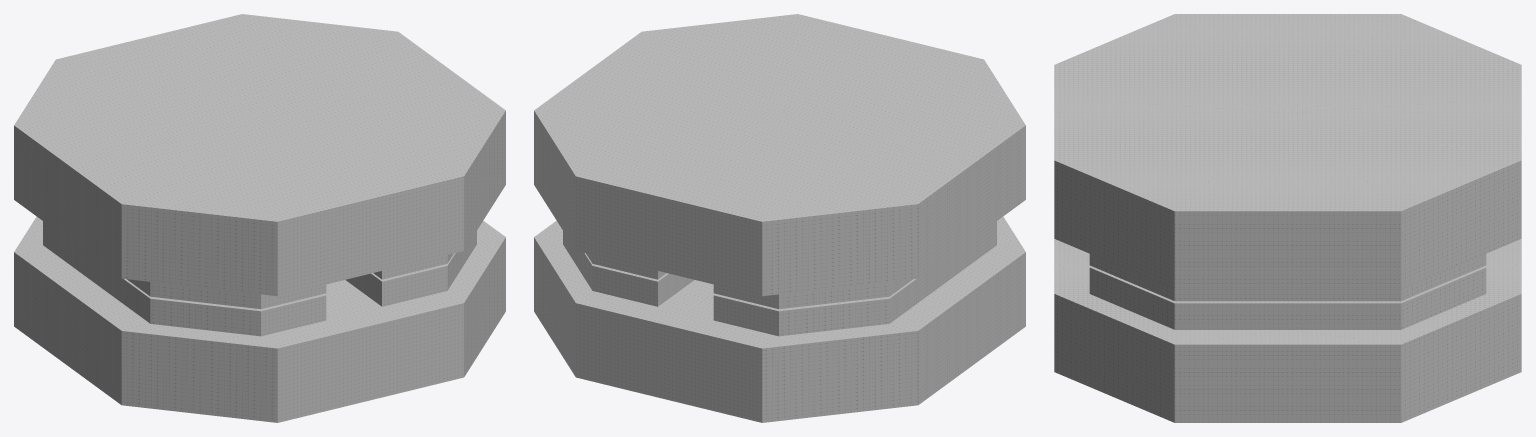
The model's file is level.glb.
3 views of the same model, side by side, from view 1: azimuth 30°, elevation 25°; view 2: azimuth 150°, elevation 25°; view 3: azimuth 270°, elevation 25° (orthographic). The views are drawn at different scales.
Visible parts, largest first — view 1: level; view 2: level; view 3: level.
Part boxes in pixels (x1=…): level: x1=14, y1=14, x2=505, y2=422; level: x1=534, y1=14, x2=1025, y2=422; level: x1=1054, y1=14, x2=1521, y2=422.
Bounding box in the file's own units: 200 × 100 × 200.
1 material, 1 textured.
